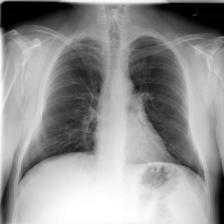normal: (17, 33, 210, 192)
